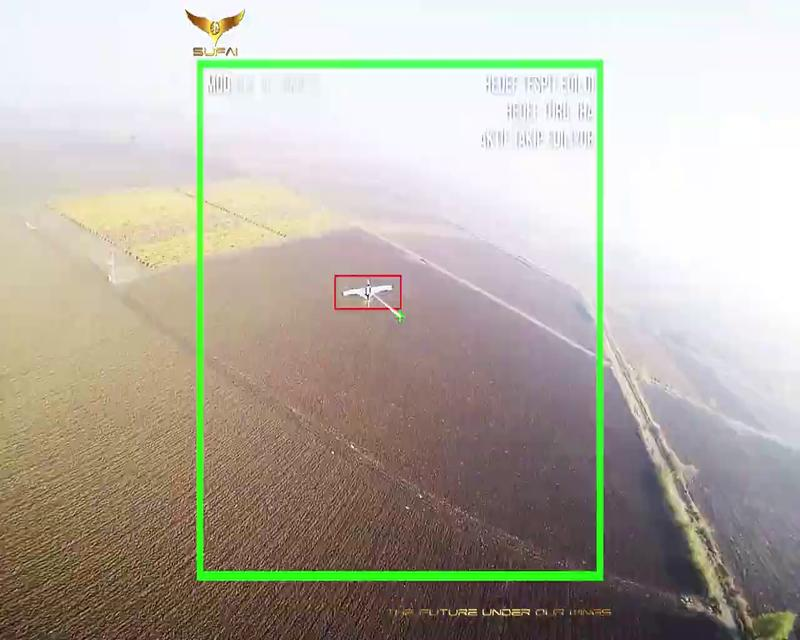UAV: (342, 278, 394, 304)
